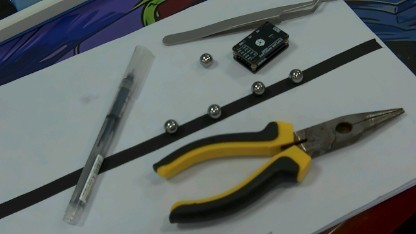ironball: (246, 78, 267, 97), (205, 99, 222, 119), (287, 67, 307, 84), (197, 51, 214, 66), (163, 118, 177, 131)
